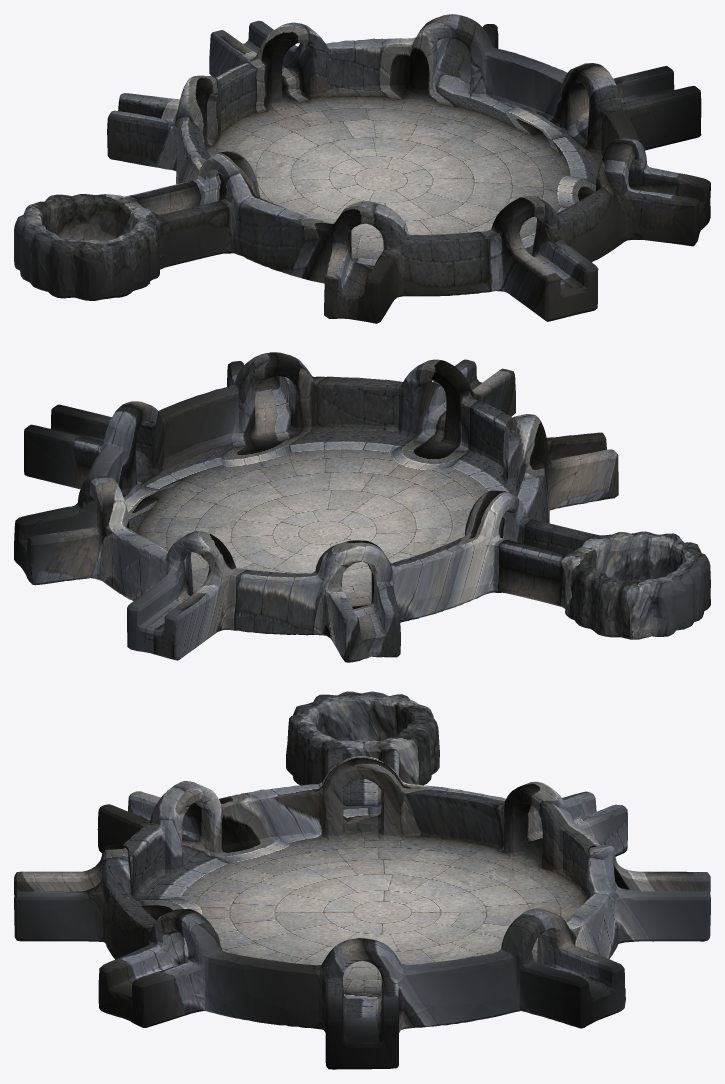
Rendered from carousel-hub-reduced-v2.glb.
3 renders of one model, top to bottom at view 1: azimuth 30°, elevation 25°; view 2: azimuth 150°, elevation 25°; view 3: azimuth 270°, elevation 25°, orthographic. The views are drawn at different scales.
Visible parts, largest first — view 1: geometry_0; view 2: geometry_0; view 3: geometry_0.
Part boxes in pixels (x1,y1,x2,y2): geometry_0: (14, 14, 710, 323); geometry_0: (14, 352, 710, 662); geometry_0: (14, 691, 710, 1069).
Bounding box in the file's own units: 1.99 × 0.2385 × 1.78.
1 material, 1 textured.
